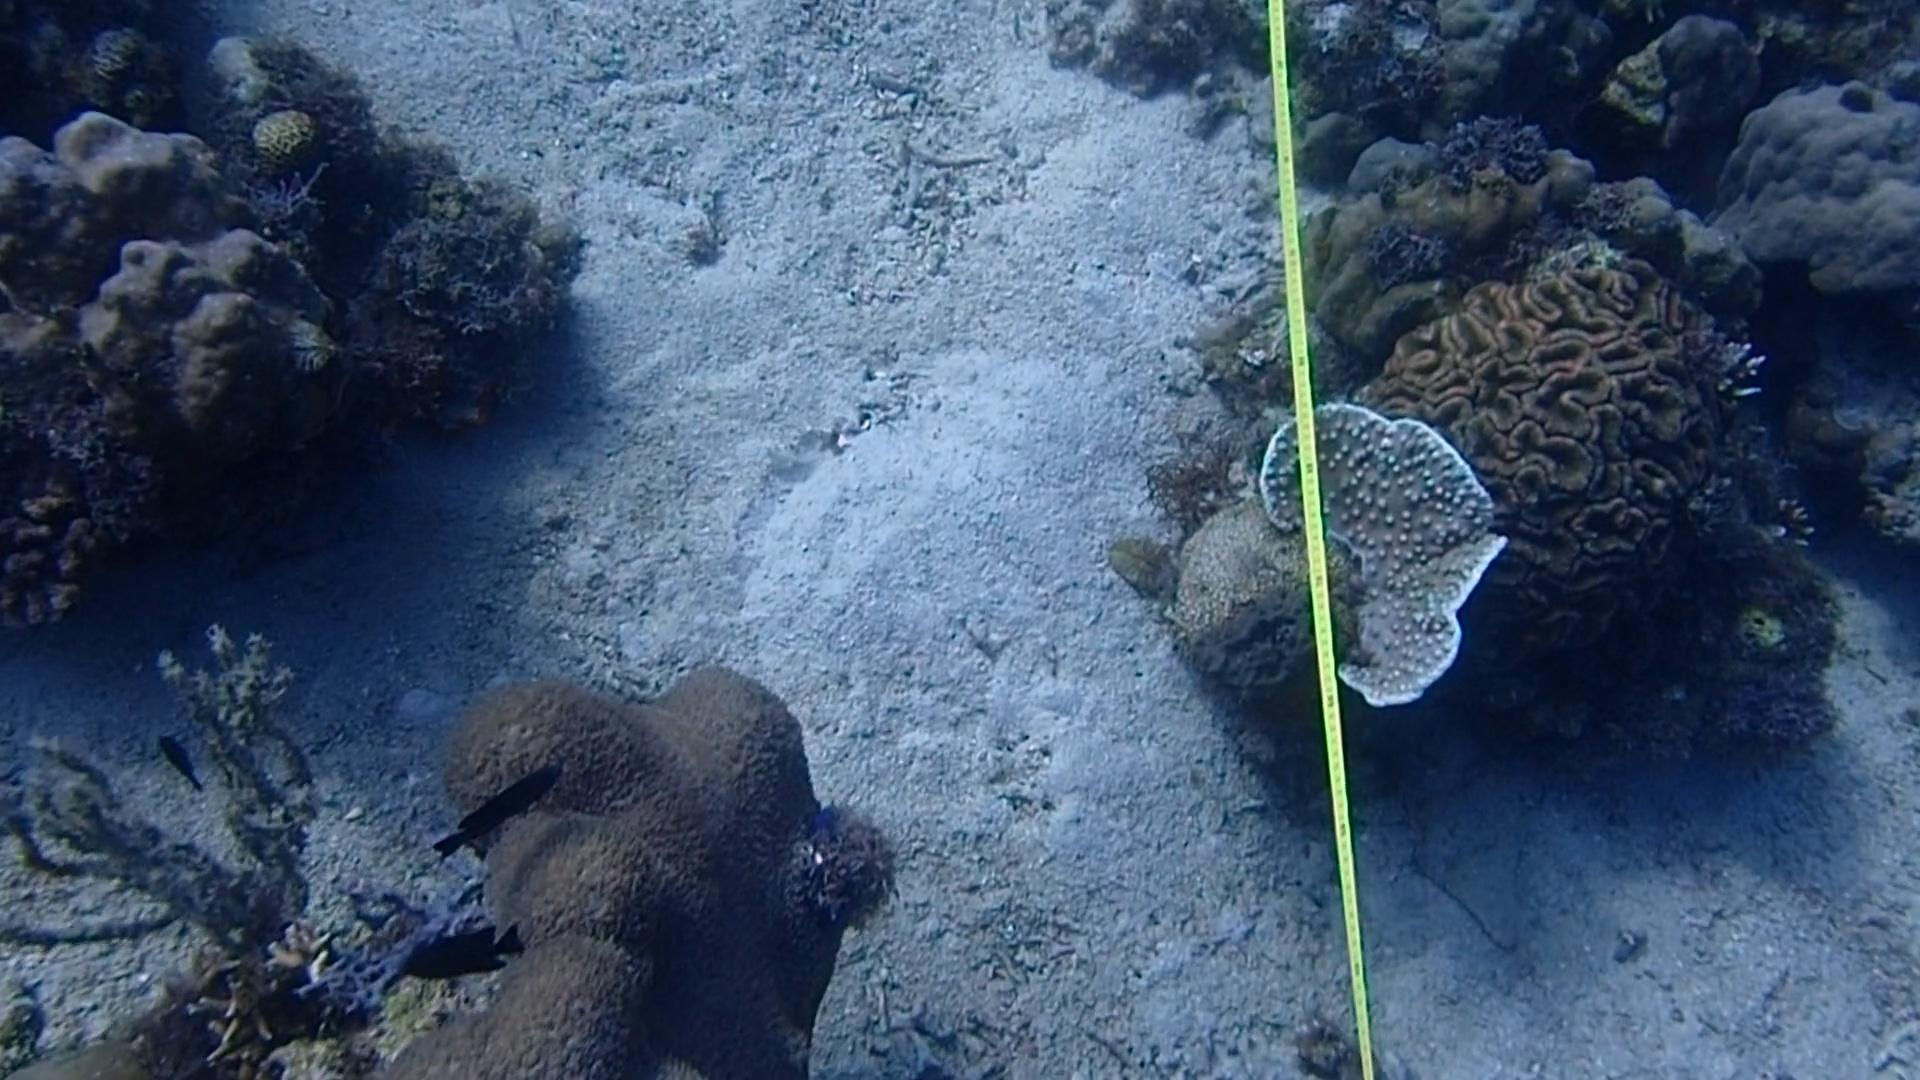Dark Fish: (413, 756, 564, 862), (393, 910, 531, 985), (145, 713, 208, 802)
